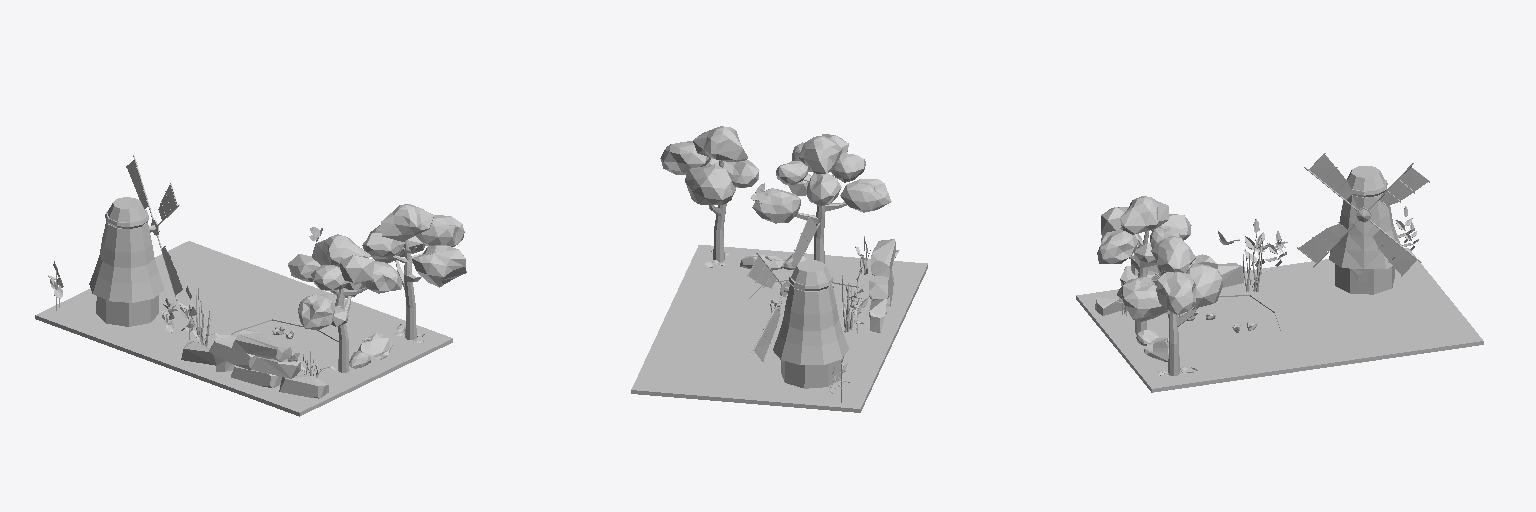
Rendered from marlu village.obj.
3 views of the same model, side by side, from view 1: azimuth 30°, elevation 25°; view 2: azimuth 150°, elevation 25°; view 3: azimuth 270°, elevation 25° (orthographic).
Parts seen in each view (by area): view 1: prim1_prim1-mesh.002, prim2_prim2-mesh.002, prim3_prim3-mesh.002, prim4_prim4-mesh.002, prim0_prim0-mesh.002; view 2: prim1_prim1-mesh.002, prim2_prim2-mesh.002, prim4_prim4-mesh.002, prim0_prim0-mesh.002, prim3_prim3-mesh.002; view 3: prim1_prim1-mesh.002, prim2_prim2-mesh.002, prim4_prim4-mesh.002, prim3_prim3-mesh.002, prim0_prim0-mesh.002.
Boxes of the visible parts, box(x1,y1,x2,y2) form: prim1_prim1-mesh.002: box(35, 240, 452, 416); prim2_prim2-mesh.002: box(89, 155, 466, 342); prim3_prim3-mesh.002: box(159, 286, 392, 398); prim4_prim4-mesh.002: box(96, 161, 338, 375); prim0_prim0-mesh.002: box(292, 234, 373, 377); prim1_prim1-mesh.002: box(631, 142, 927, 412); prim2_prim2-mesh.002: box(660, 126, 891, 364); prim4_prim4-mesh.002: box(749, 217, 870, 388); prim0_prim0-mesh.002: box(752, 134, 867, 273); prim3_prim3-mesh.002: box(662, 239, 899, 368); prim1_prim1-mesh.002: box(1076, 206, 1483, 392); prim2_prim2-mesh.002: box(1101, 153, 1429, 375); prim4_prim4-mesh.002: box(1124, 155, 1427, 345); prim3_prim3-mesh.002: box(1095, 239, 1366, 363); prim0_prim0-mesh.002: box(1101, 196, 1180, 314).
Size of the model in its own units: 24.08 by 10.66 by 27.13.